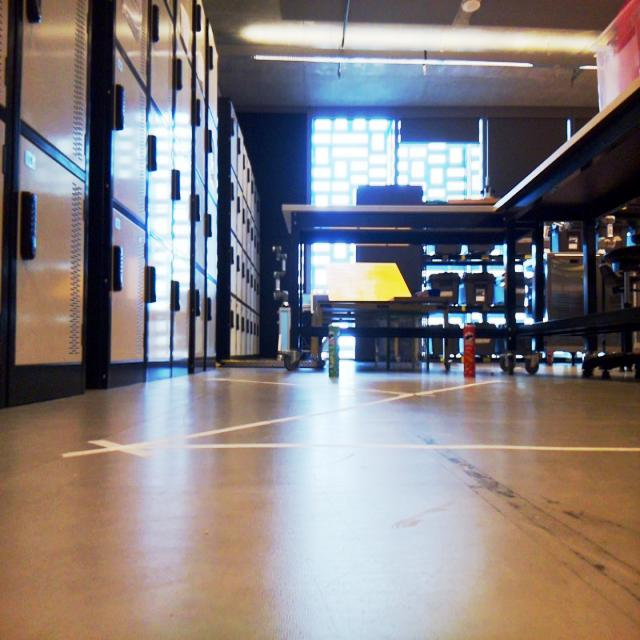greenpringles: (324, 318, 354, 398)
redpringles: (439, 308, 475, 392)
